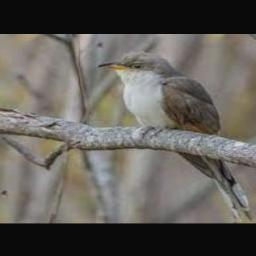Cuckoo: (96, 51, 256, 221)
